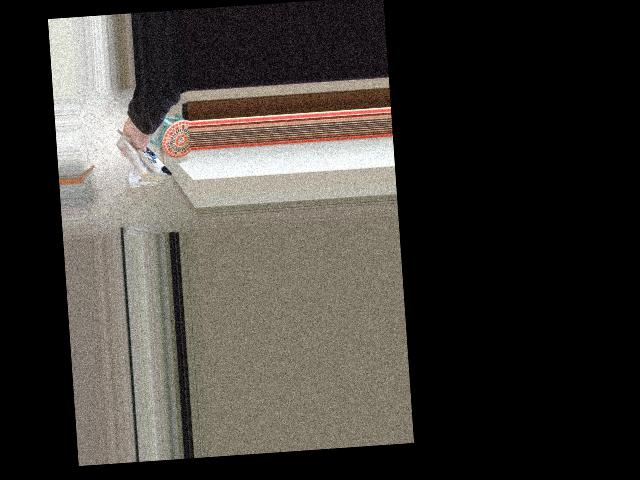cheese: (108, 115, 181, 194)
